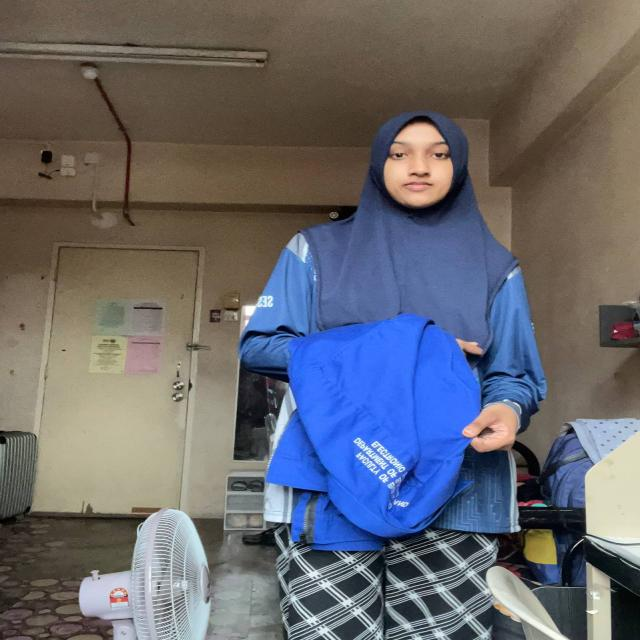person_without_labcoat: (239, 111, 546, 640)
